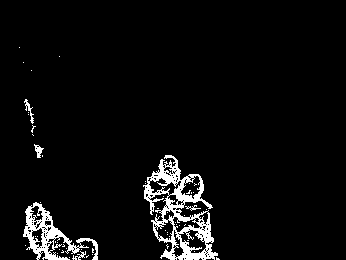person: (162, 173, 219, 260), (143, 150, 182, 260)
